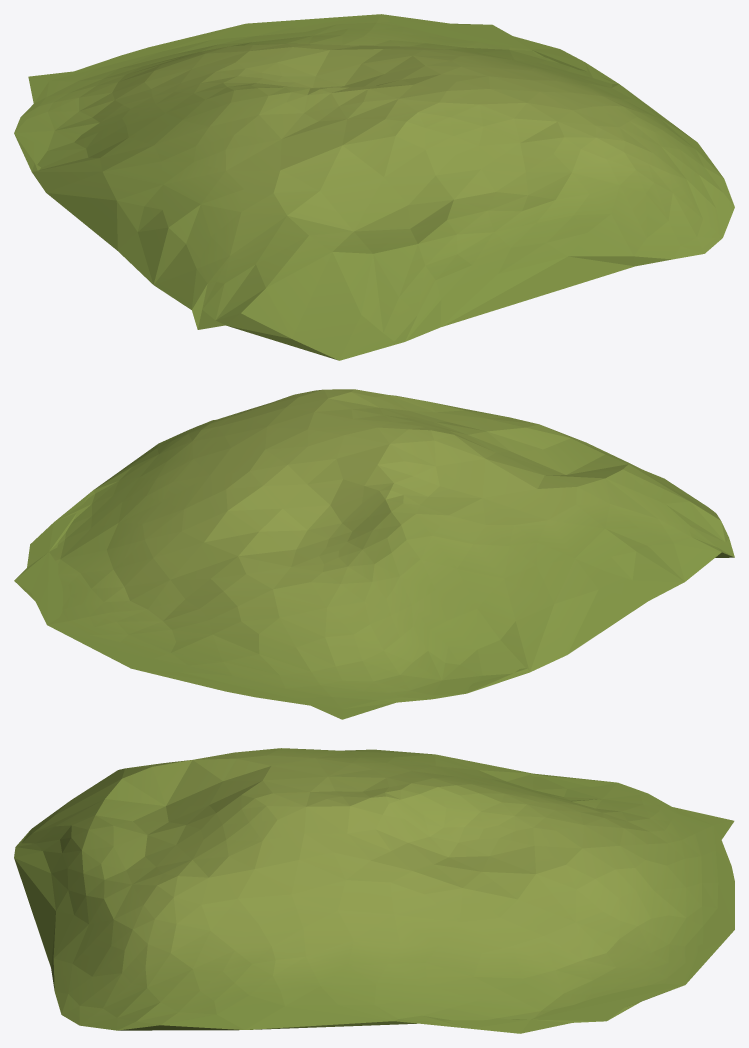
File: Hill_02.fbx
3 views of the same model, one above another, from view 1: azimuth 30°, elevation 25°; view 2: azimuth 150°, elevation 25°; view 3: azimuth 270°, elevation 25° (orthographic). The views are drawn at different scales.
Parts seen in each view (by area): view 1: Hill_02; view 2: Hill_02; view 3: Hill_02.
Part boxes in pixels (left/top/right/bottom): Hill_02: left=14, top=14, right=734, bottom=360; Hill_02: left=14, top=389, right=734, bottom=719; Hill_02: left=14, top=748, right=734, bottom=1033.
Bounding box in the file's own units: 56.43 × 11.53 × 62.98.
